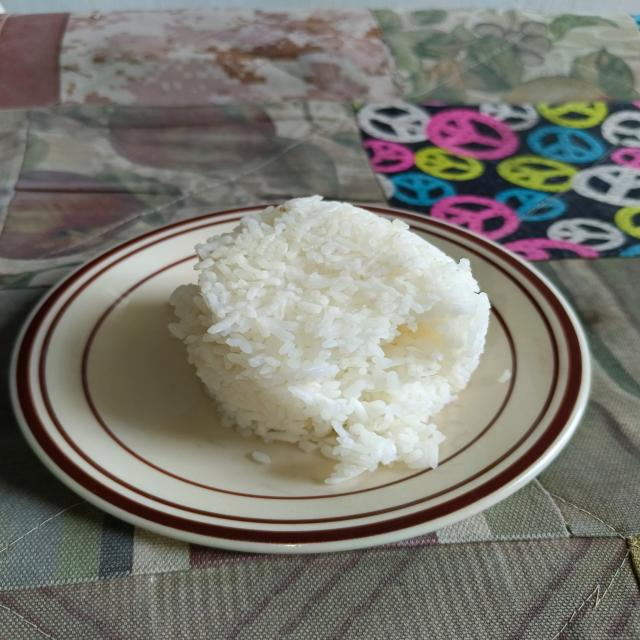Chicken -Chicken Inasal-: (176, 190, 497, 458)
